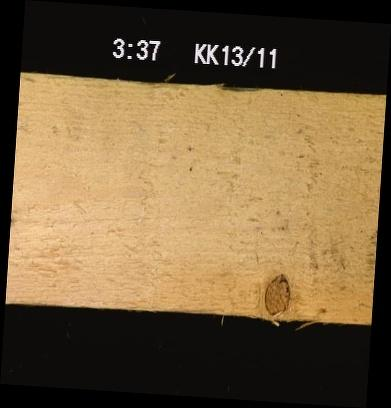dry_knot: (262, 272, 290, 316)
